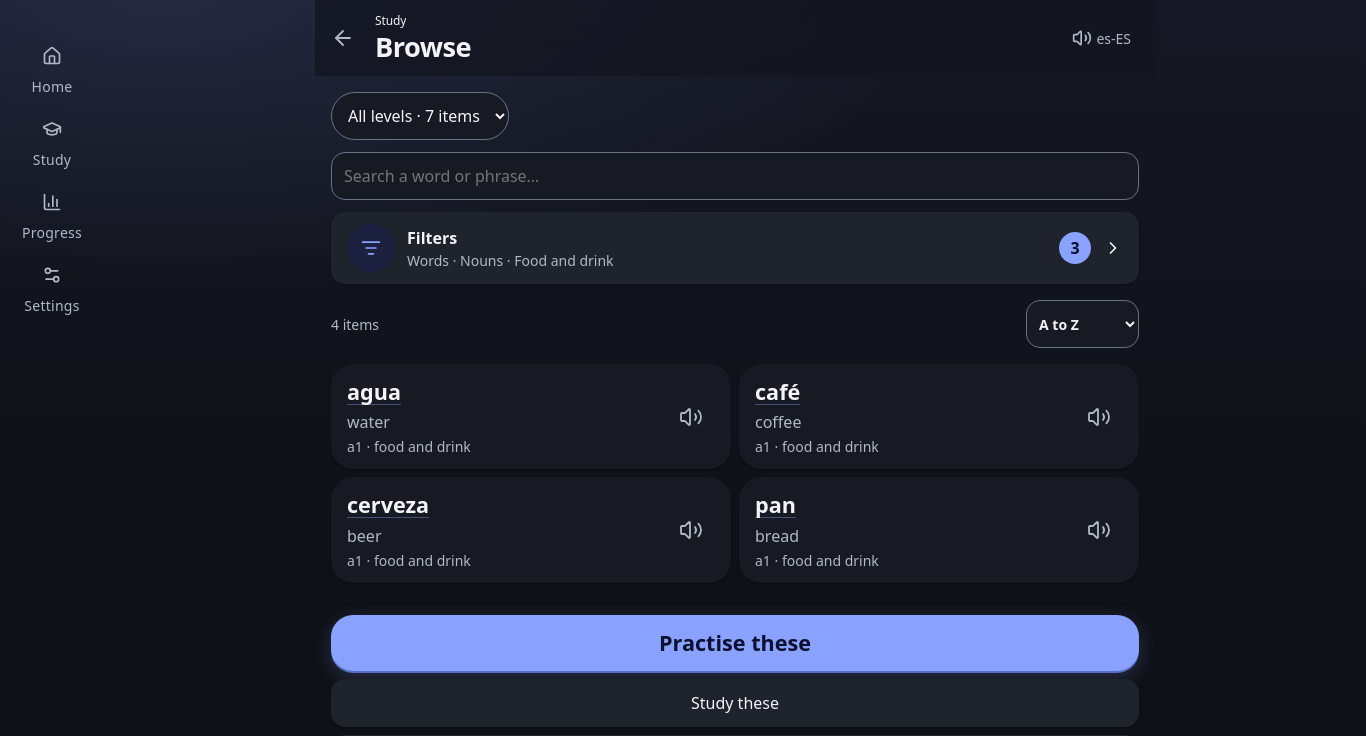
Test: a sheet the URL describes › restores the controls from the link, so a reload looks the same
Click the button with aria-label "Filters:".
click(371, 248)  # box [331,212,1139,284]
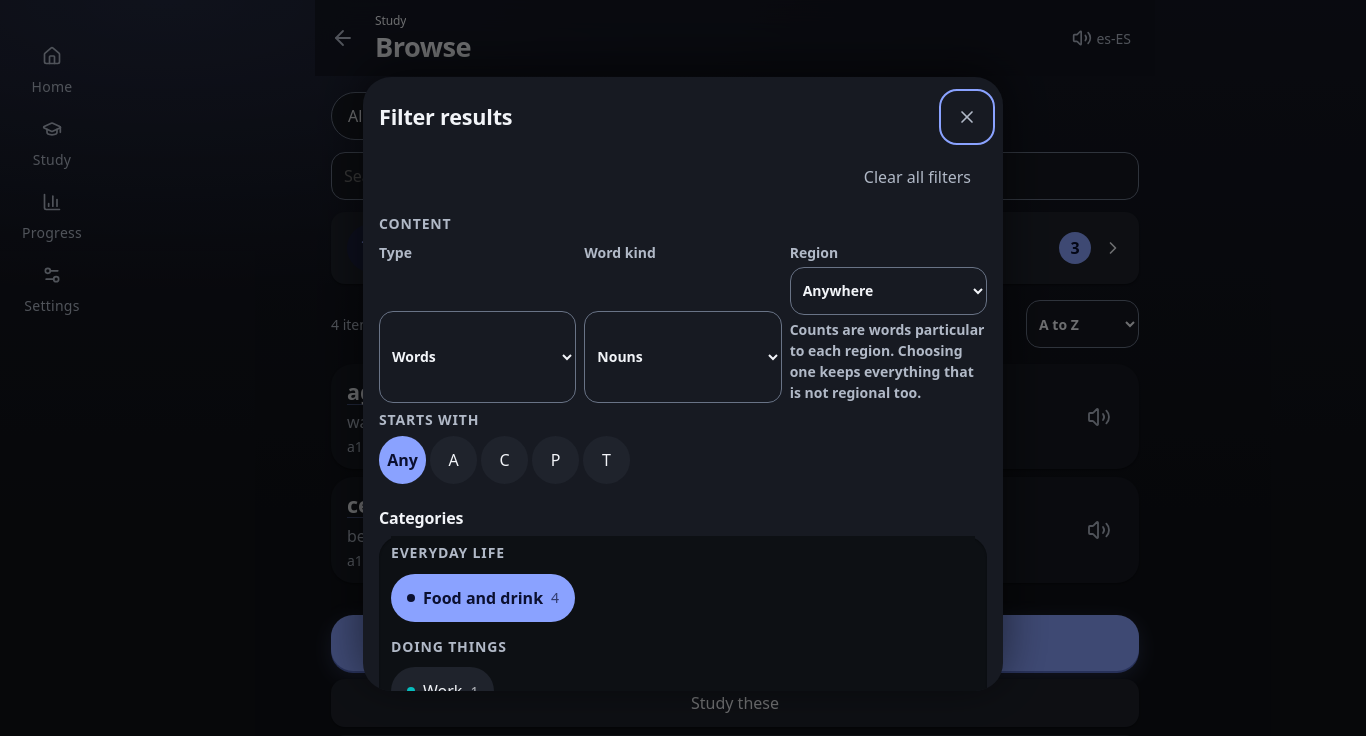
Expected: the dropdown named "sort" shows "A to Z", [1026,300,1139,348]
Expected: the dropdown labelled "Type" shows "Words", [379,311,576,403]
Expected: the dropdown labelled "Word kind" shows "Nouns", [584,311,782,403]
